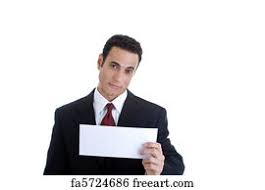white_male: (98, 35, 137, 100)
